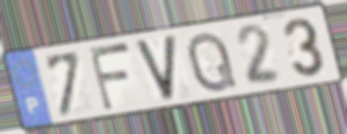2: (235, 23, 285, 87)
3: (281, 16, 327, 80)
7: (43, 48, 83, 119)
F: (85, 41, 134, 114)
Q: (185, 29, 240, 96)
V: (131, 32, 179, 105)
